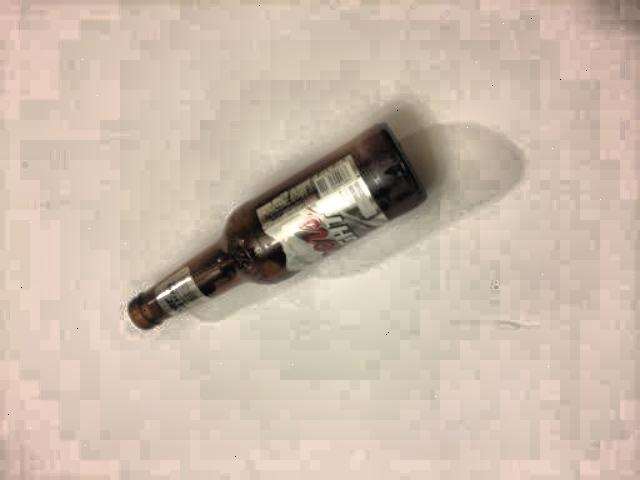Bottles: (120, 116, 443, 357)
